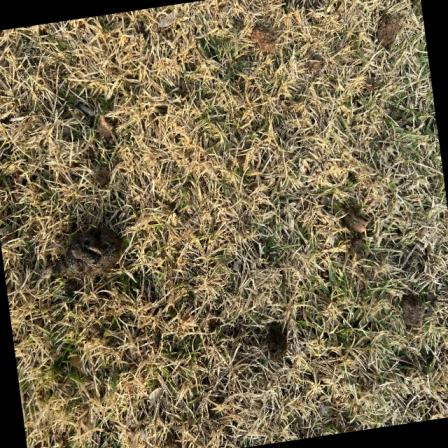dog-poop: (54, 218, 131, 295)
